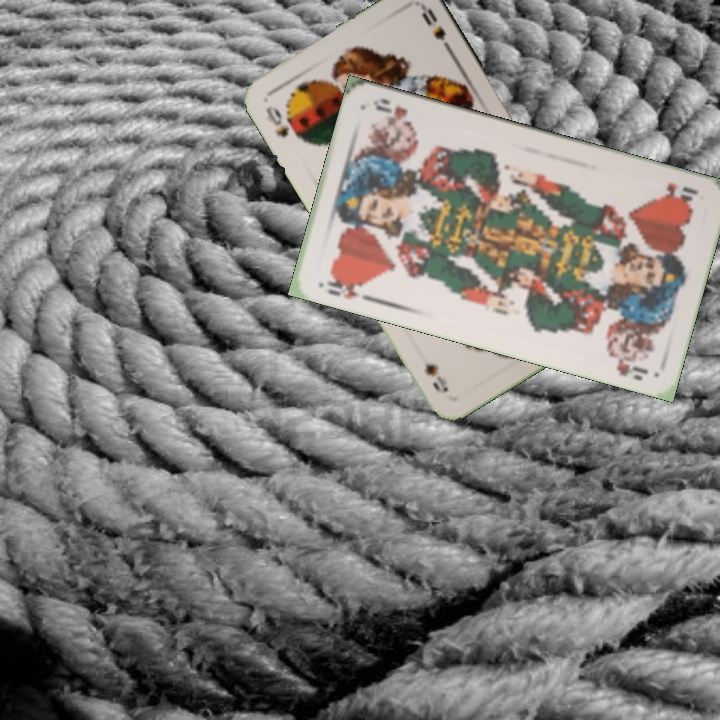HO: (322, 270, 374, 303), (660, 178, 701, 205)
SO: (261, 101, 302, 141)
